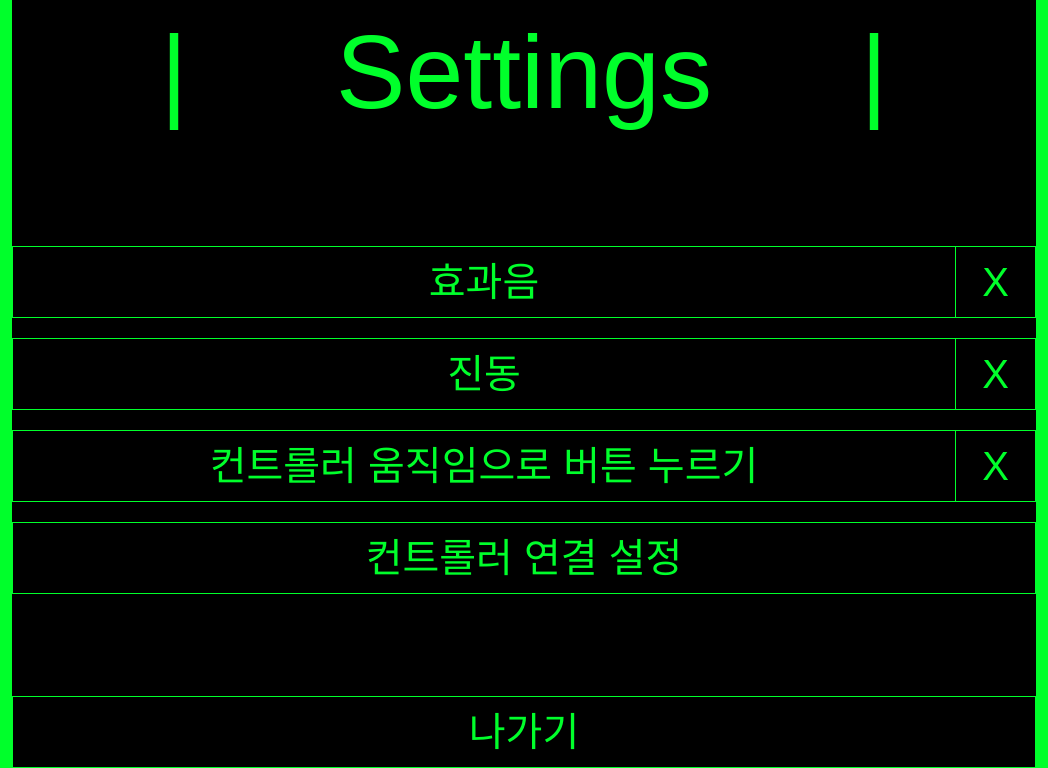
Settings 페이지 테스트 › 진동 버튼을 누른 경우 토글되어야 합니다
Click the button "진동" at (484,374), box x1=12 y1=338 x2=956 y2=410
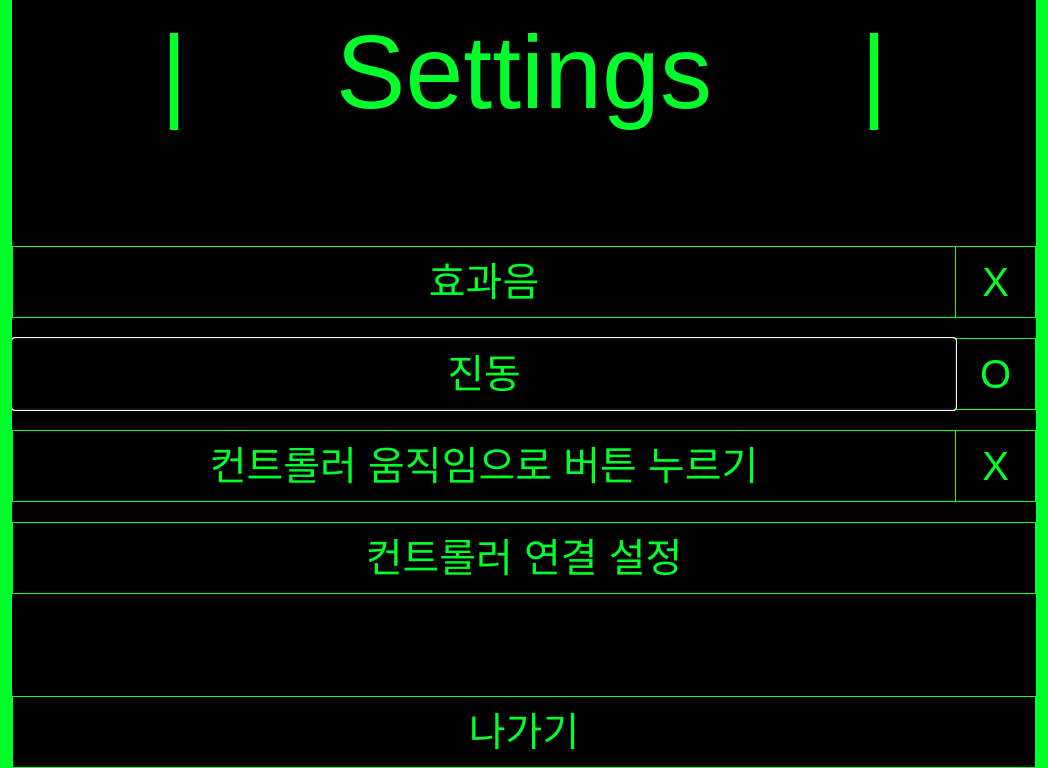
Now the text with test id "test-진동" reads "O", box x1=980 y1=352 x2=1011 y2=396
